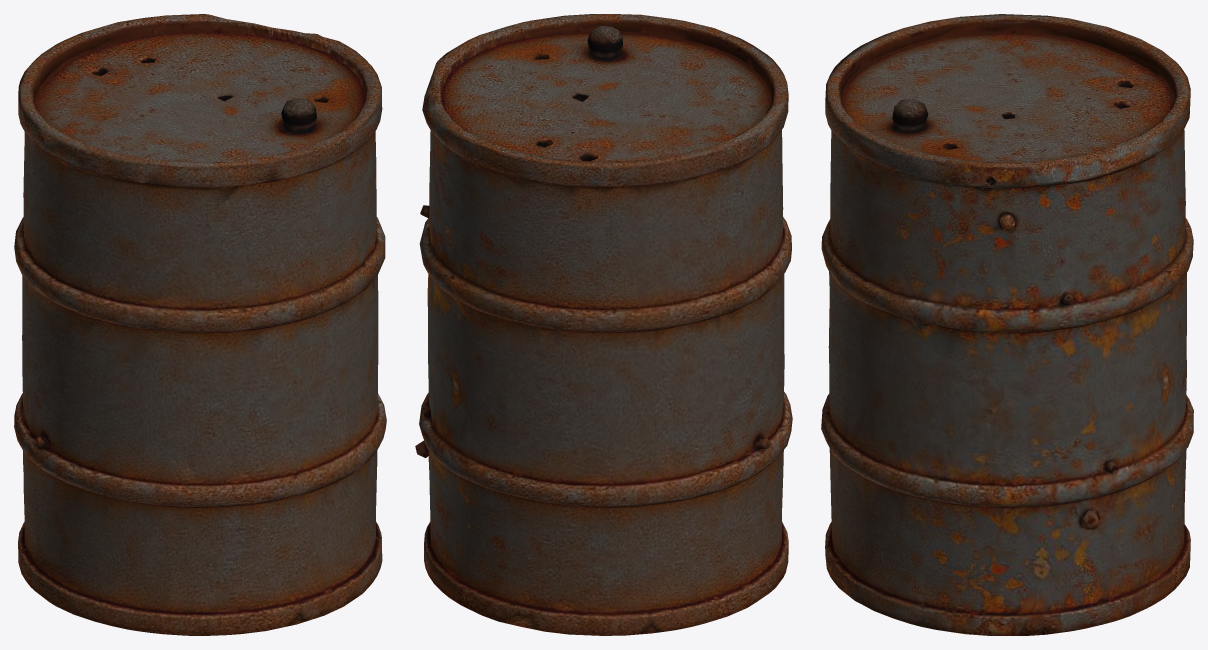
Rendered from barrel.glb.
The picture shows the model from 3 angles, left to right: view 1: azimuth 30°, elevation 25°; view 2: azimuth 150°, elevation 25°; view 3: azimuth 270°, elevation 25°; orthographic projection.
Parts seen in each view (by area): view 1: tripo_node_ca702816-b2a2-4ea7-a236-2c96d9b99567; view 2: tripo_node_ca702816-b2a2-4ea7-a236-2c96d9b99567; view 3: tripo_node_ca702816-b2a2-4ea7-a236-2c96d9b99567.
Boxes of the visible parts, left/top/right/bottom form: tripo_node_ca702816-b2a2-4ea7-a236-2c96d9b99567: left=14, top=14, right=386, bottom=635; tripo_node_ca702816-b2a2-4ea7-a236-2c96d9b99567: left=415, top=14, right=792, bottom=635; tripo_node_ca702816-b2a2-4ea7-a236-2c96d9b99567: left=821, top=14, right=1193, bottom=635.
Bounding box in the file's own units: 0.5284 × 0.75 × 0.5225.
Materials: 1 (1 with a texture image).
